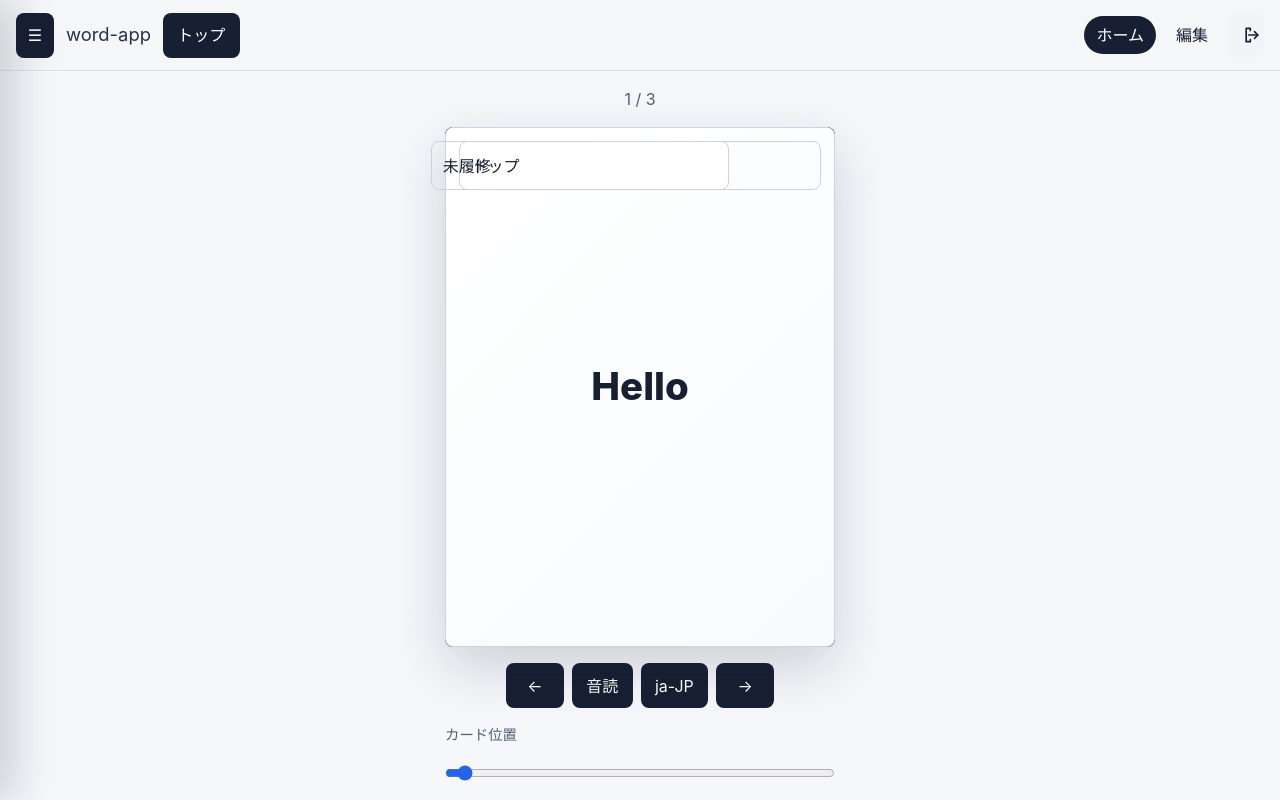
Test: App › wraps from the first study card to the last with the previous button
The width and height of the screenshot is (1280, 800).
Click the button named "前のカード" at (535, 686), box x1=506 y1=663 x2=564 y2=708
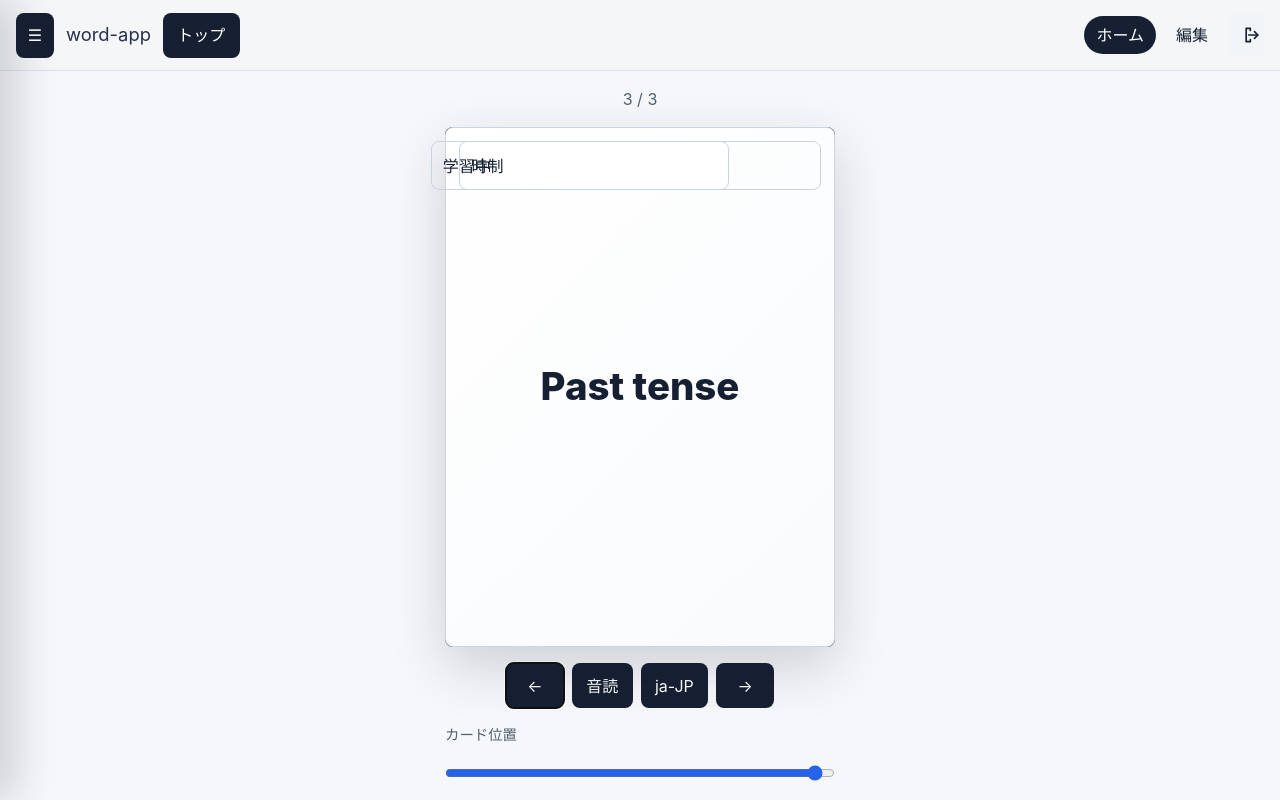
Check: the text "Past tense" is shown, box x1=445 y1=127 x2=835 y2=647
